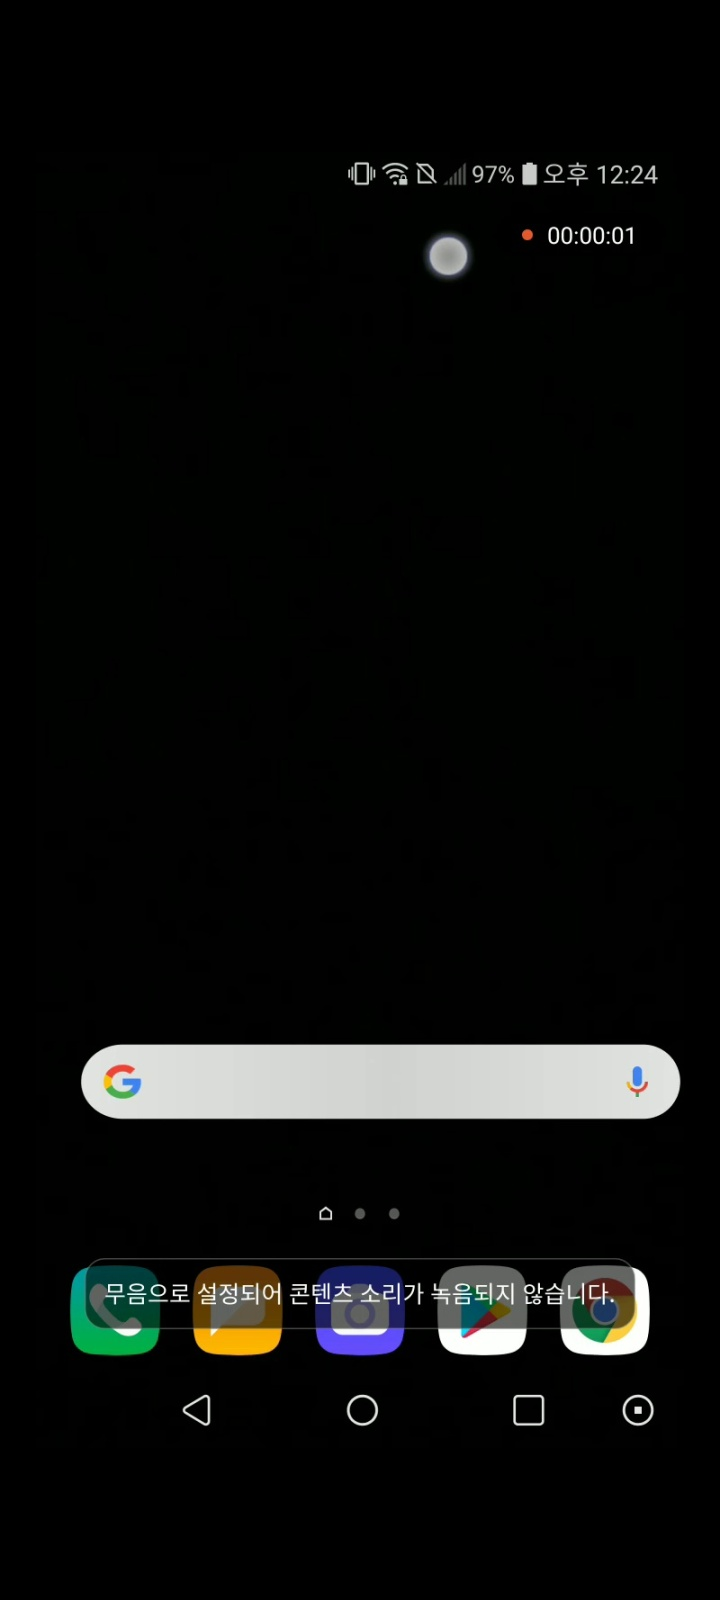Cursor: (425, 233, 470, 278)
